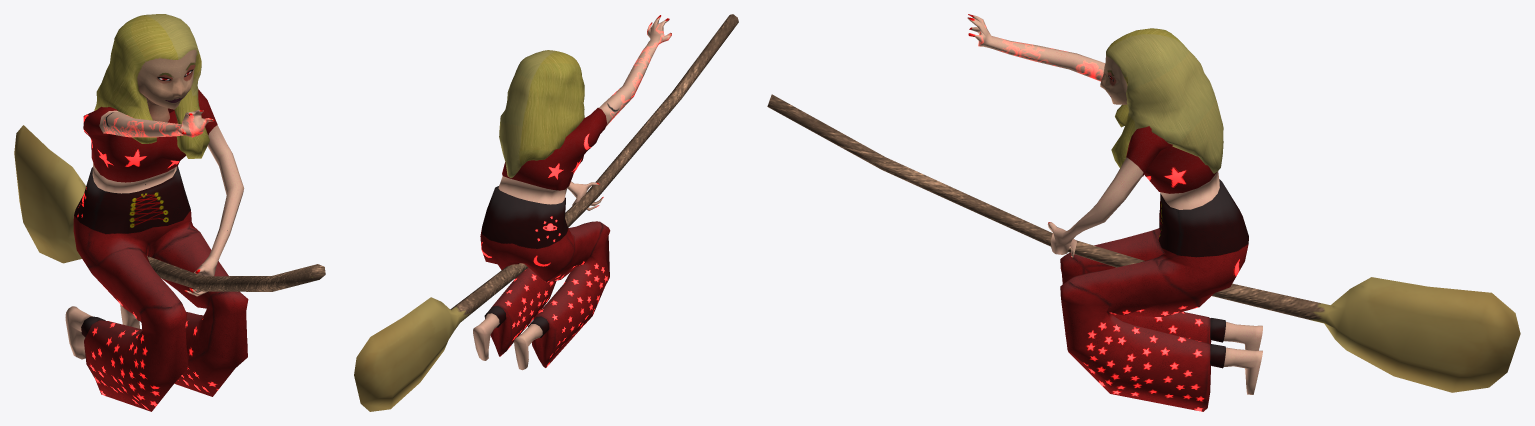
3 views of the same model, side by side, from view 1: azimuth 30°, elevation 25°; view 2: azimuth 150°, elevation 25°; view 3: azimuth 270°, elevation 25° (orthographic). The views are drawn at different scales.
Parts seen in each view (by area): view 1: defensoraCos_Material #2_0, escombra001_Material #3_0; view 2: defensoraCos_Material #2_0, escombra001_Material #3_0; view 3: defensoraCos_Material #2_0, escombra001_Material #3_0.
Part boxes in pixels (box(x1,y1,x2,y2)): defensoraCos_Material #2_0: box(65, 14, 248, 411); escombra001_Material #3_0: box(14, 125, 325, 291); defensoraCos_Material #2_0: box(473, 15, 671, 370); escombra001_Material #3_0: box(354, 14, 738, 411); defensoraCos_Material #2_0: box(967, 14, 1262, 411); escombra001_Material #3_0: box(767, 94, 1520, 392).
Bounding box in the file's own units: 0.426 × 1.17 × 2.21.
Materials: 2 (2 with a texture image).
